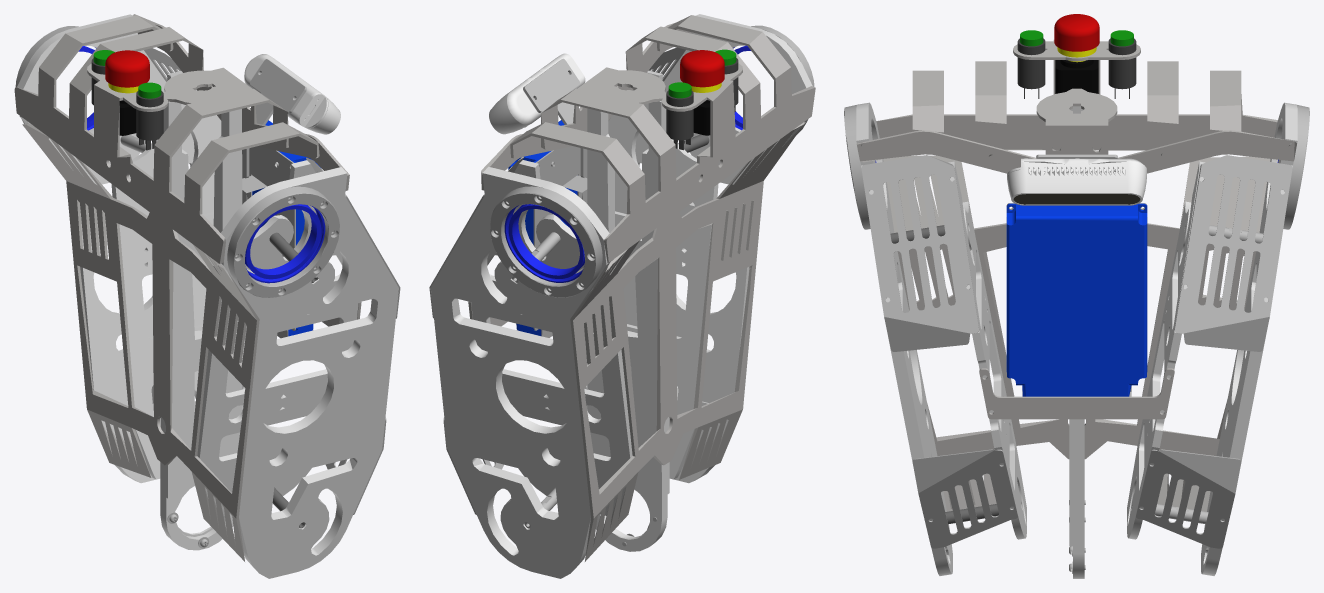
The model's file is body_link.dae.
The picture shows the model from 3 angles, left to right: view 1: azimuth 30°, elevation 25°; view 2: azimuth 150°, elevation 25°; view 3: azimuth 270°, elevation 25°; orthographic projection.
Parts seen in each view (by area): view 1: FBXASC227FBXASC130FBXASC189FBXASC227FBXASC131FBXASC170FBXASC (×19); view 2: FBXASC227FBXASC130FBXASC189FBXASC227FBXASC131FBXASC170FBXASC (×20); view 3: FBXASC227FBXASC130FBXASC189FBXASC227FBXASC131FBXASC170FBXASC (×21).
Part boxes in pixels (bbox=[...]): FBXASC227FBXASC130FBXASC189FBXASC227FBXASC131FBXASC170FBXASC (×19): bbox=[14, 14, 398, 578]; FBXASC227FBXASC130FBXASC189FBXASC227FBXASC131FBXASC170FBXASC (×20): bbox=[431, 14, 815, 578]; FBXASC227FBXASC130FBXASC189FBXASC227FBXASC131FBXASC170FBXASC (×21): bbox=[844, 14, 1309, 578].
Size of the model in its own units: 0.1599 by 0.2979 by 0.3645.
